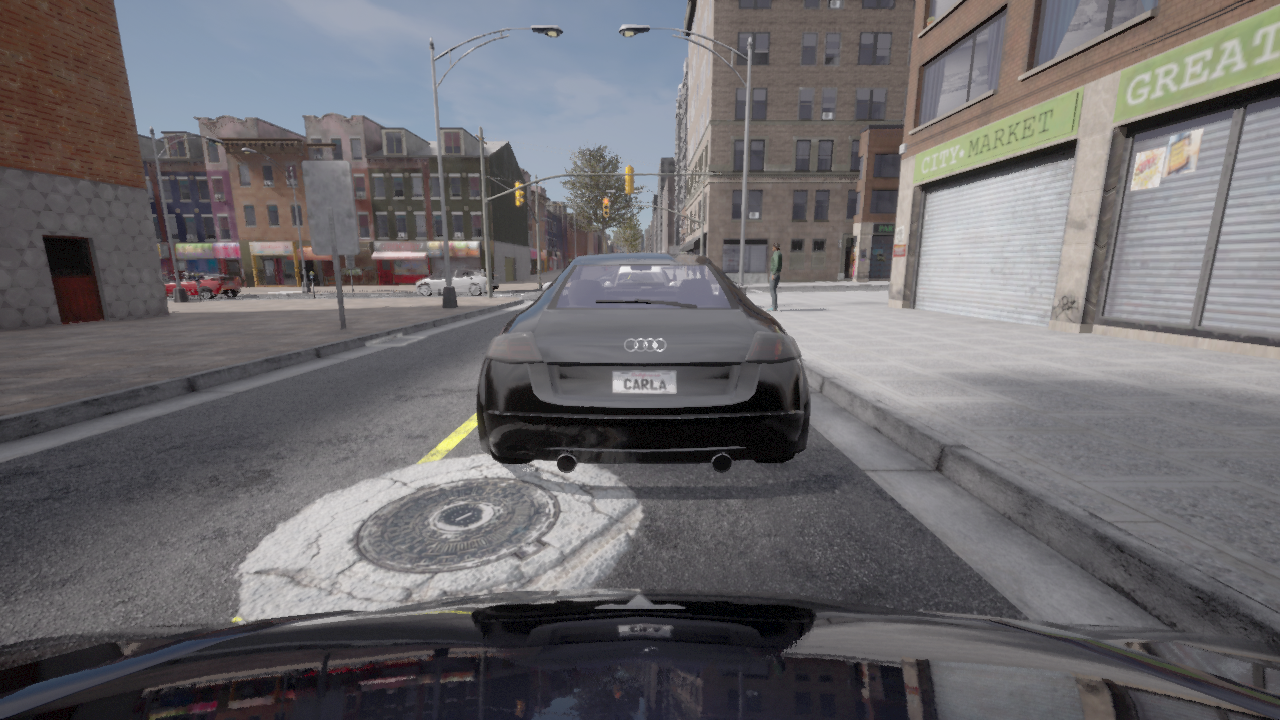cyclist: (0, 588, 1279, 719), (476, 253, 809, 473), (415, 268, 499, 296), (163, 272, 241, 299)
pedestrian: (766, 242, 782, 310)
